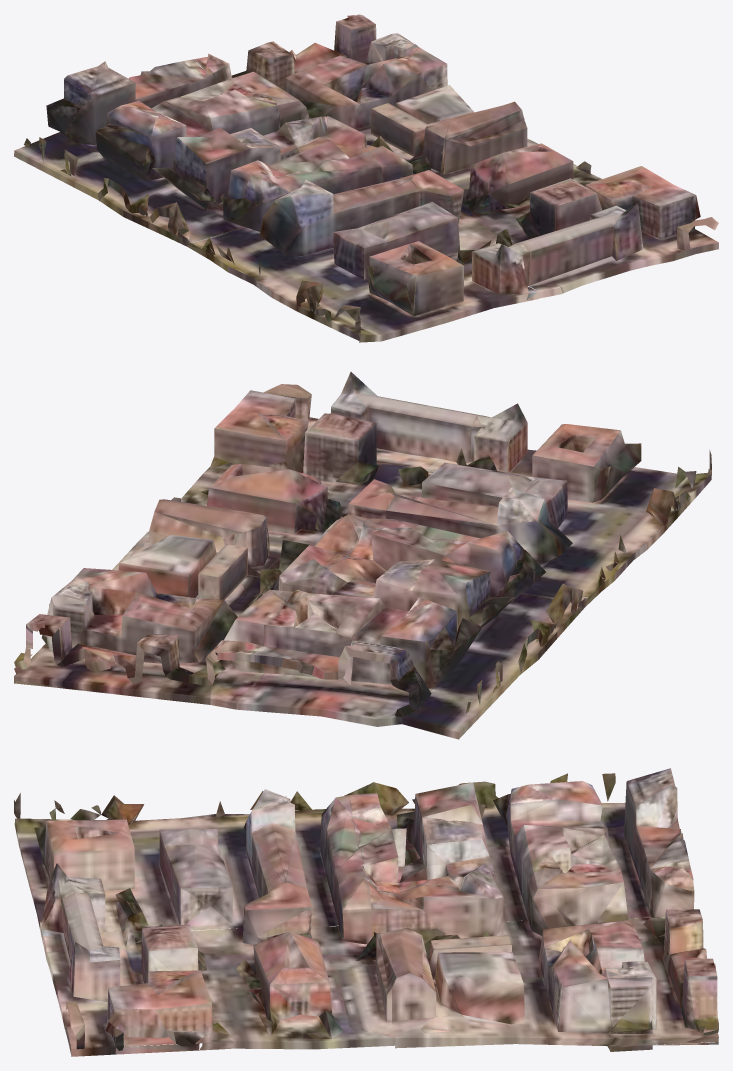
3 renders of one model, top to bottom at view 1: azimuth 30°, elevation 25°; view 2: azimuth 150°, elevation 25°; view 3: azimuth 270°, elevation 25°, orthographic. The views are drawn at different scales.
Parts seen in each view (by area): view 1: Mesh_0; view 2: Mesh_0; view 3: Mesh_0.
Part boxes in pixels (bbox=[...]): Mesh_0: bbox=[14, 14, 718, 342]; Mesh_0: bbox=[14, 372, 711, 739]; Mesh_0: bbox=[14, 768, 718, 1056].
Size of the model in its own units: 266 by 55.88 by 330.
2 materials, 2 textured.
